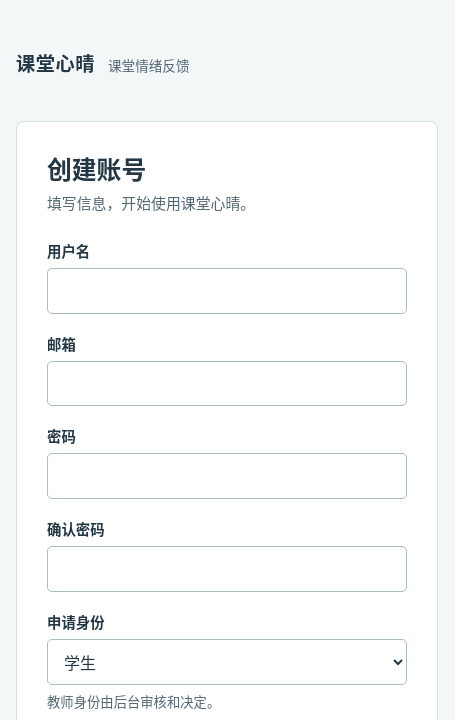
Test: 客户端视图 › 注册密码不一致时显示错误且不发出注册请求
Type "student" into the field labelled "用户名" at (227, 291), box x1=47 y1=268 x2=407 y2=314
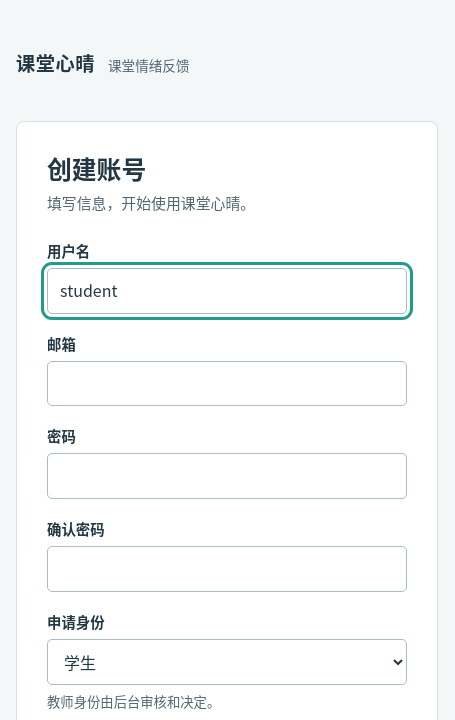
Type "student@example.test" into the field labelled "邮箱" at (227, 383), box x1=47 y1=361 x2=407 y2=406
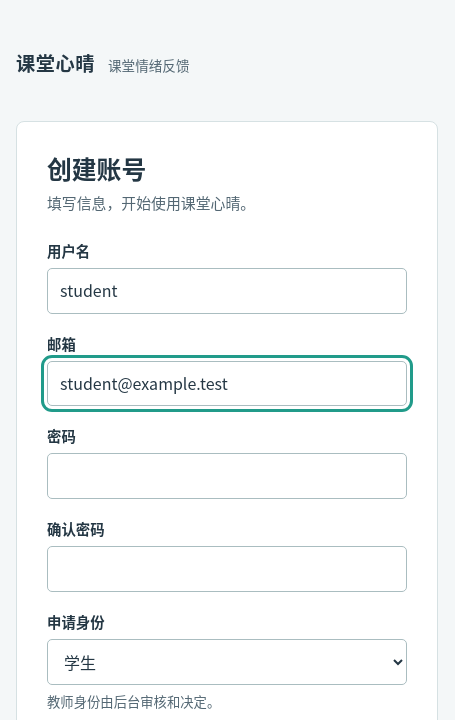
Type "password1" into the password field labelled "密码" at (227, 476), box x1=47 y1=453 x2=407 y2=499
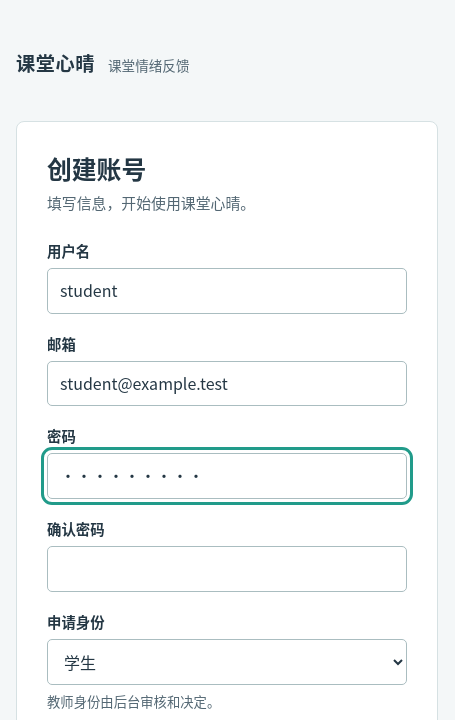
Type "password2" into the password field labelled "确认密码" at (227, 569), box x1=47 y1=546 x2=407 y2=592
(page scrolled)
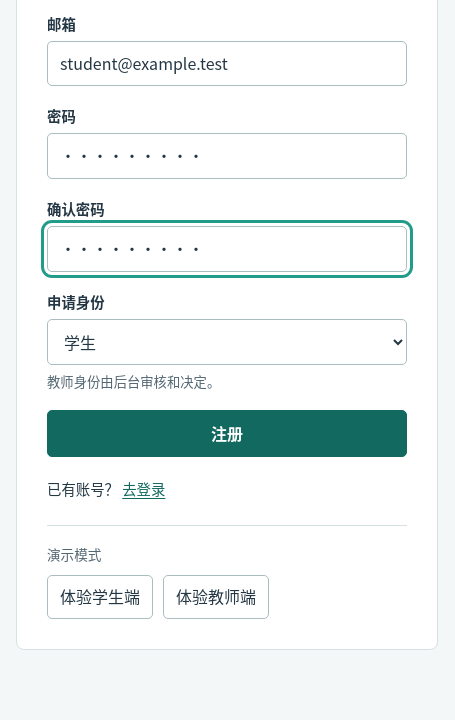
Click the button "注册" at (227, 434), box x1=47 y1=410 x2=407 y2=458
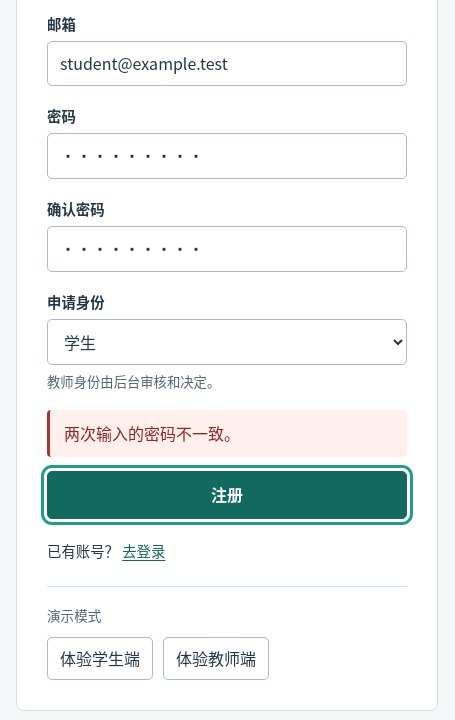
expect the dropdown labelled "申请身份" does not show "管理员": met, box x1=47 y1=318 x2=407 y2=364
expect the message shows "两次输入的密码不一致": met, box x1=64 y1=421 x2=240 y2=445
